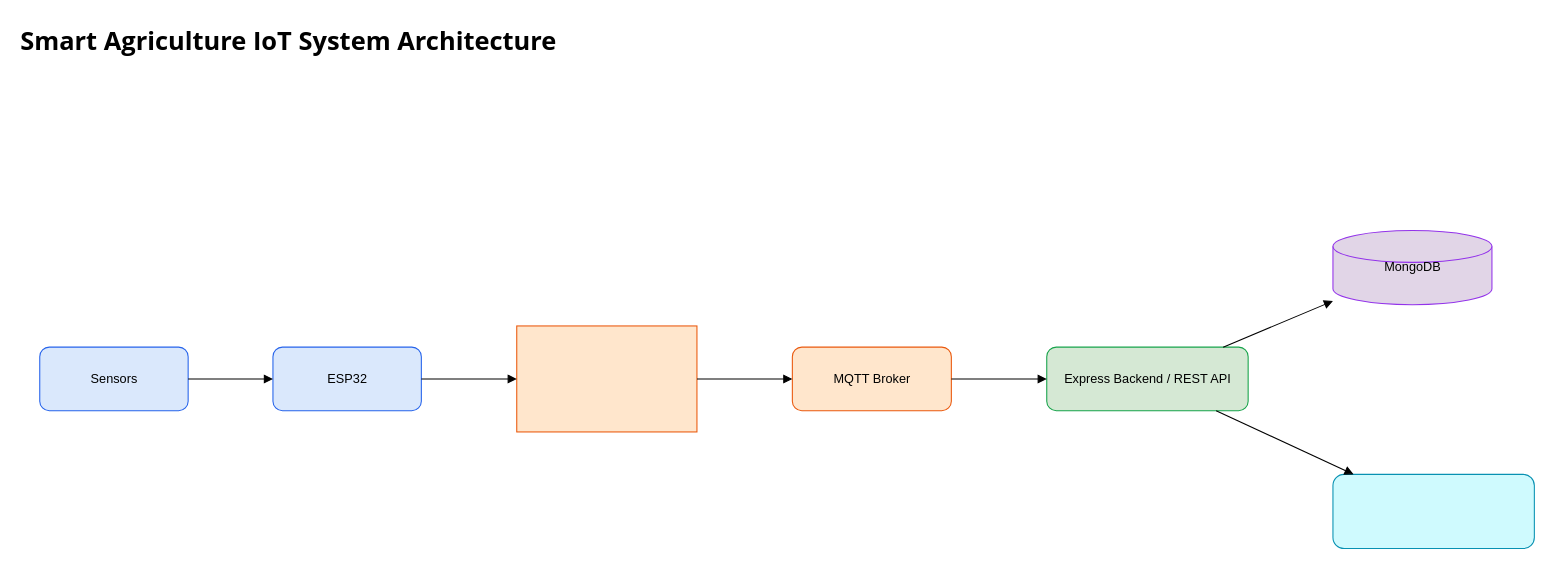
Image size: 1553x567. Some labels were removed from this diagram. Each missing label, with the centre of its shape:
React Dashboard / Administrator: point (1433, 511)
WiFi / Internet: point (606, 378)
